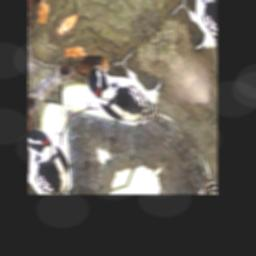Woodpecker: (78, 33, 184, 153)
